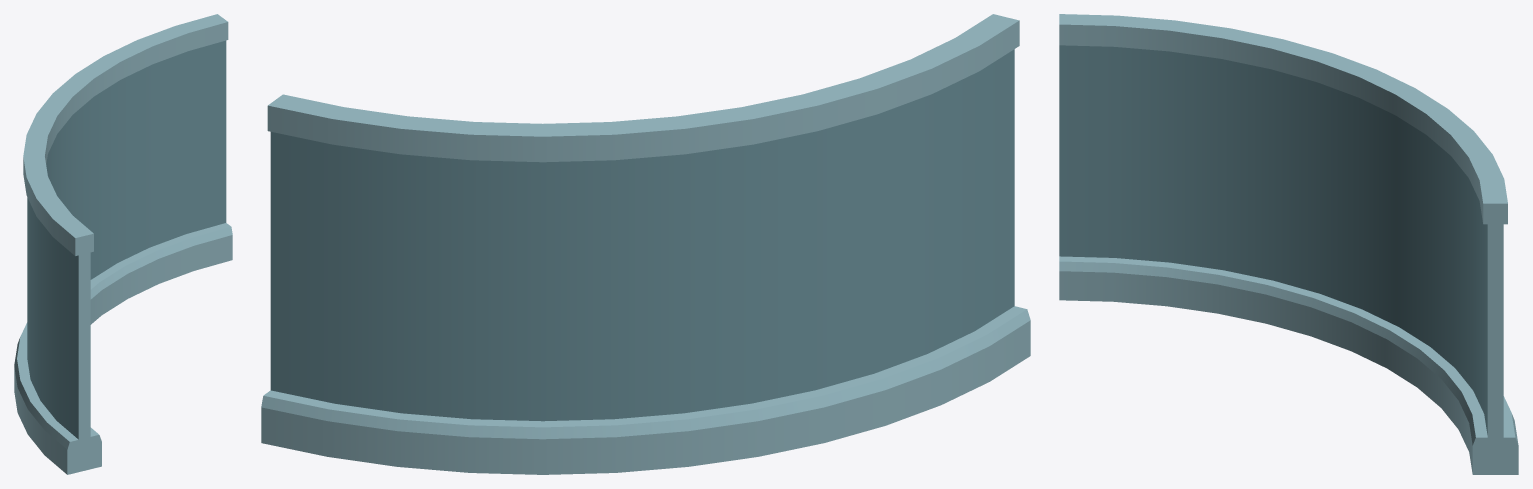
File: stoneWallCurve.obj
3 renders of one model, left to right at view 1: azimuth 30°, elevation 25°; view 2: azimuth 150°, elevation 25°; view 3: azimuth 270°, elevation 25°, orthographic. The views are drawn at different scales.
Visible parts, largest first — view 1: stoneWallCurve; view 2: stoneWallCurve; view 3: stoneWallCurve.
Part boxes in pixels (<box>): stoneWallCurve: <box>14,14,232,474</box>; stoneWallCurve: <box>261,14,1030,474</box>; stoneWallCurve: <box>1059,14,1518,474</box>.
Size of the model in its own units: 1 by 0.6519 by 1.
